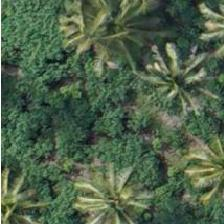coconut_tree: (131, 36, 221, 126), (43, 0, 133, 82), (70, 162, 160, 223), (172, 119, 223, 209), (0, 170, 49, 223)
